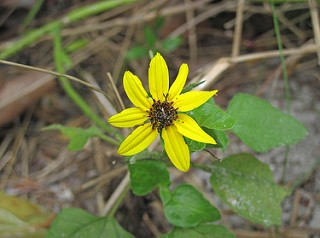flower: (106, 45, 220, 173)
